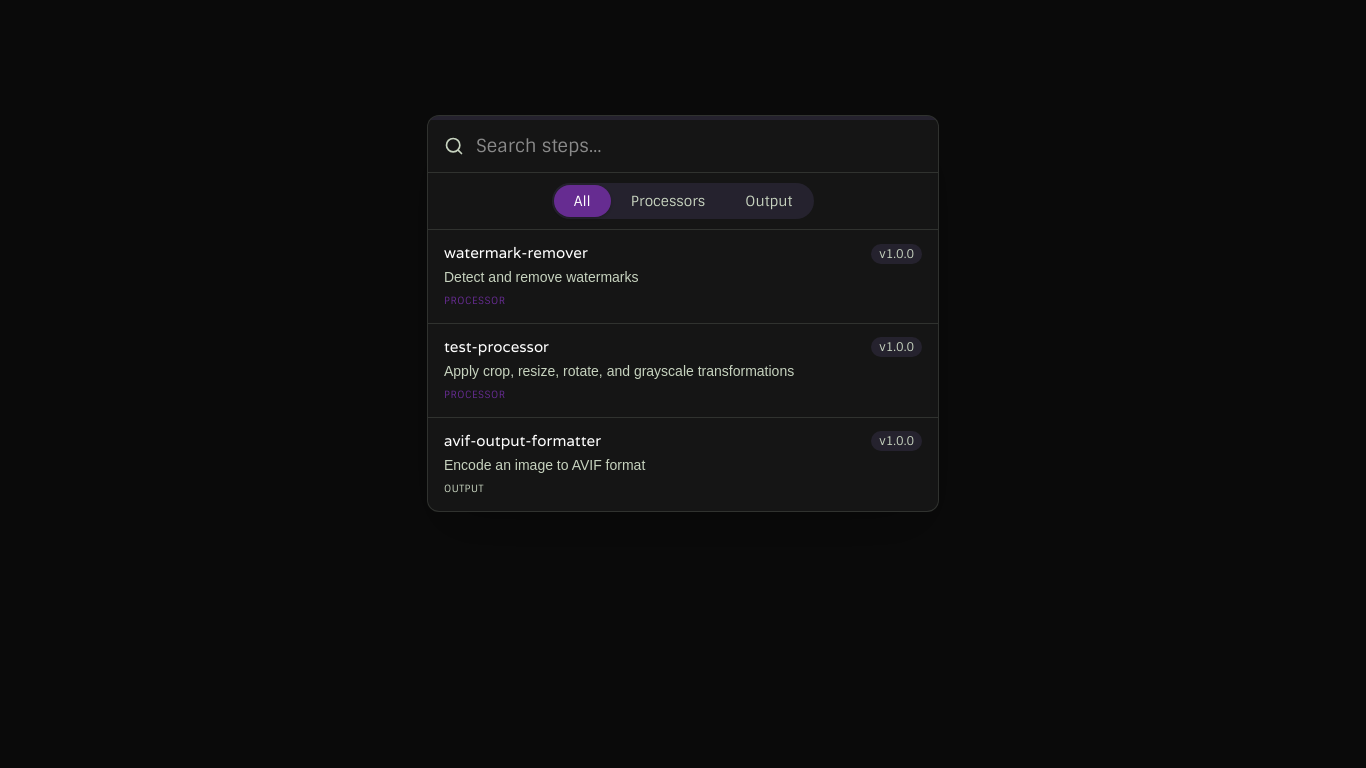
Scenario: StepSearch › shows all steps again after switching back to All
The width and height of the screenshot is (1366, 768).
Expected: the text "watermark-remover" is shown, top-left (444, 242), bottom-right (588, 265)
Switch to Processors
Step 1. Click the radio button "Processors" → (668,201), box top-left (611, 185), bottom-right (725, 217)
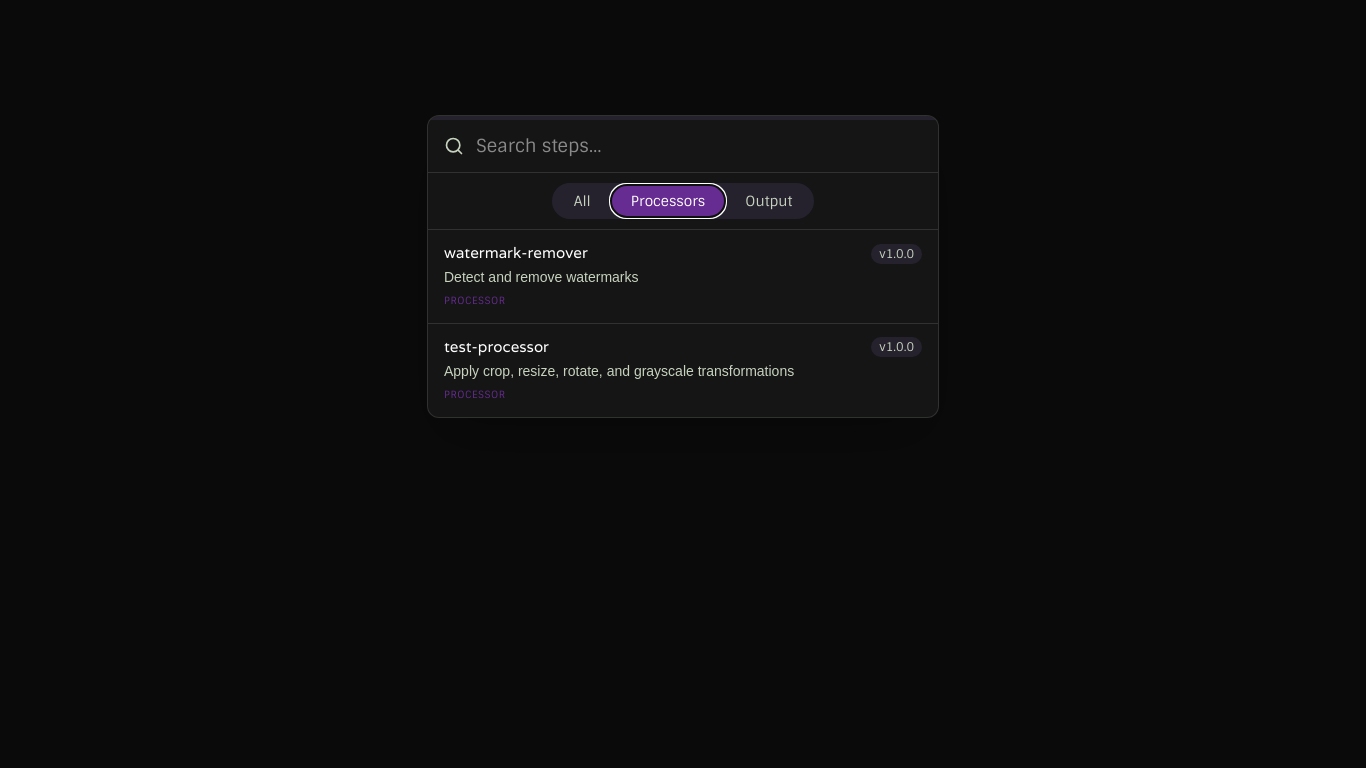
Expected: the button "avif-output-formatter" is gone
Switch back to All
Step 2. Click the radio button "All" → (582,201), box top-left (554, 185), bottom-right (611, 217)
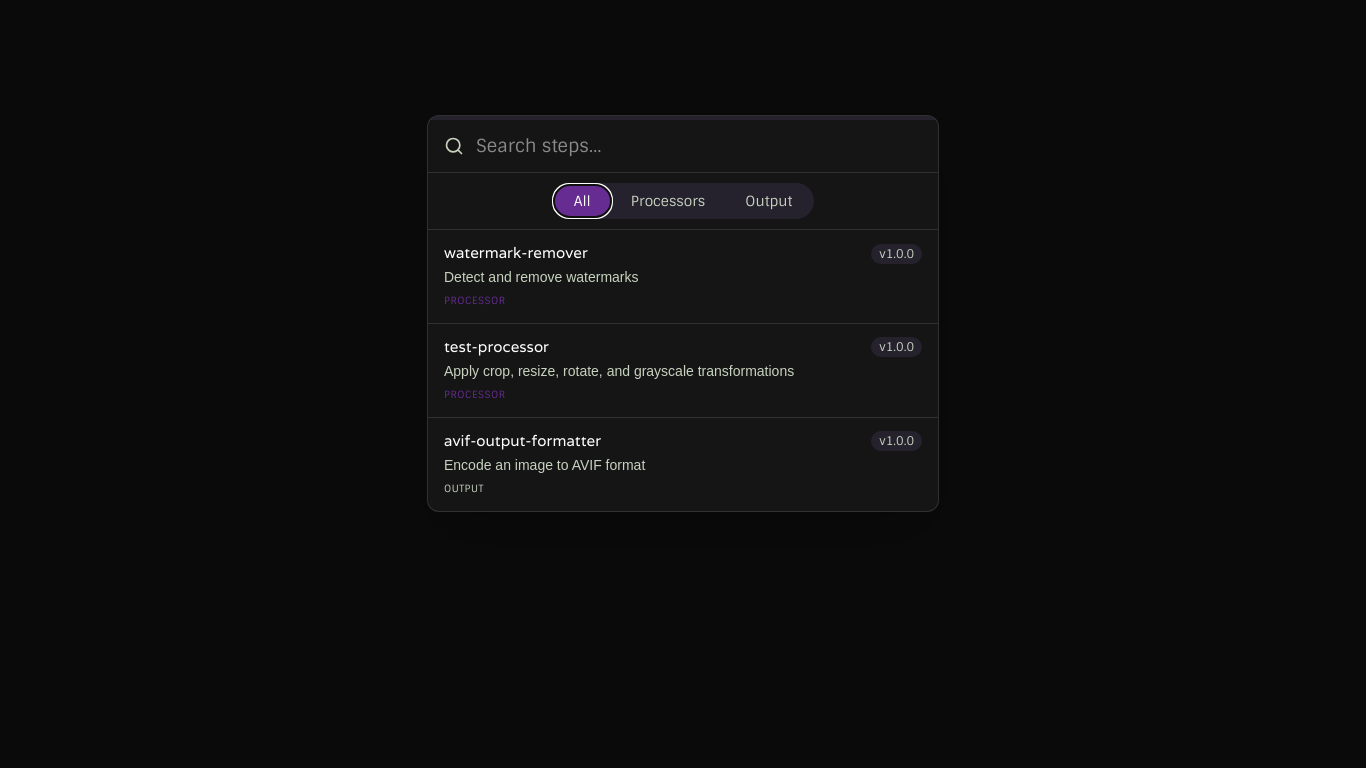
Expected: the text "watermark-remover" is shown, top-left (444, 242), bottom-right (588, 265)
Expected: the text "avif-output-formatter" is shown, top-left (444, 430), bottom-right (601, 453)
